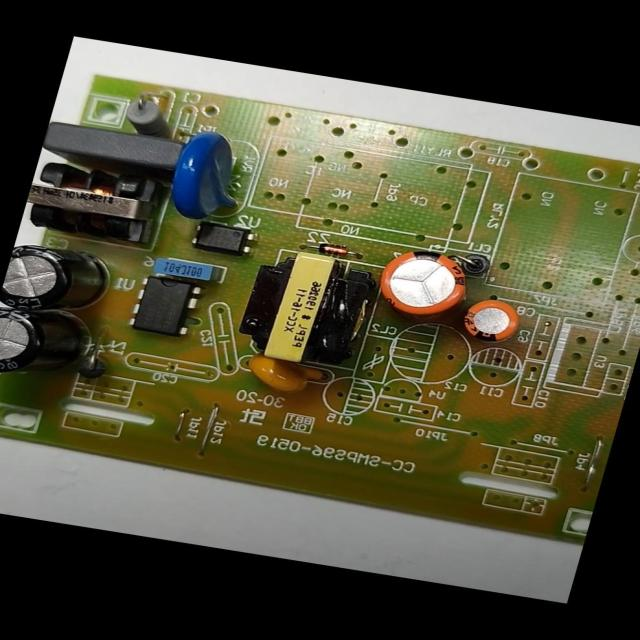Cap1: (367, 242, 480, 328)
Cap2: (458, 293, 529, 347)
Cap3: (0, 239, 120, 323)
Cap4: (0, 305, 99, 387)
MOSFET: (122, 272, 206, 340)
Mov: (160, 125, 258, 227)
Resistor: (115, 93, 186, 140)
Transformer: (229, 242, 373, 371), (20, 156, 168, 246)
